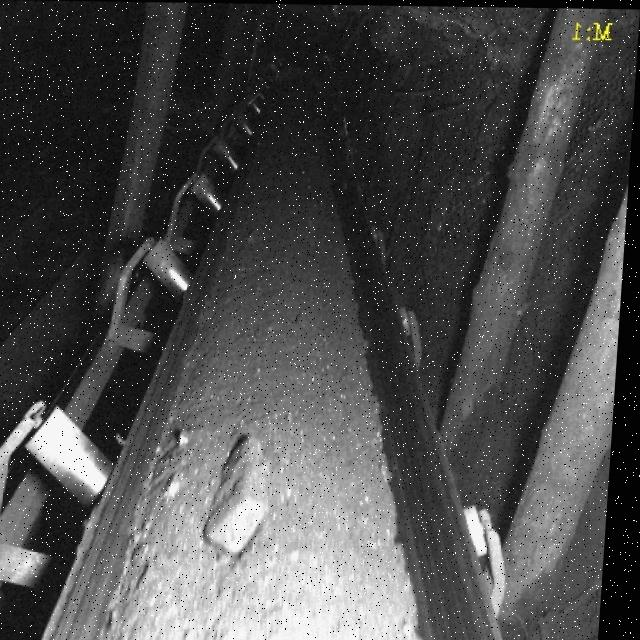large_sized_coal: (207, 435, 280, 551)
